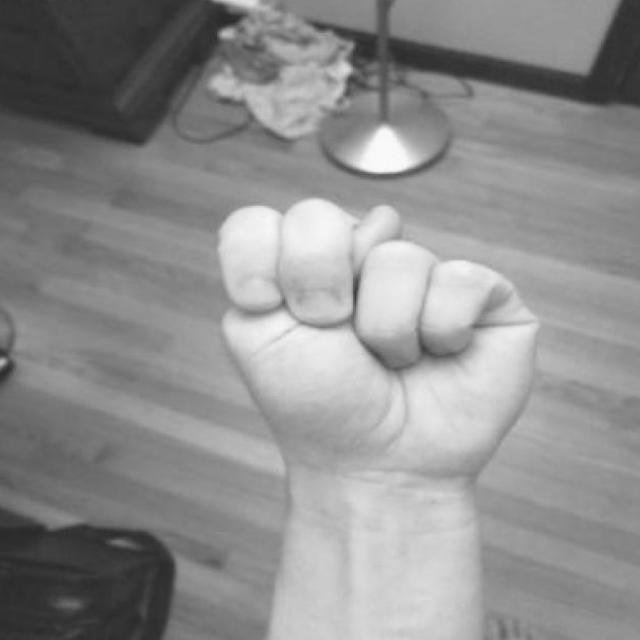N: (211, 183, 557, 558)
